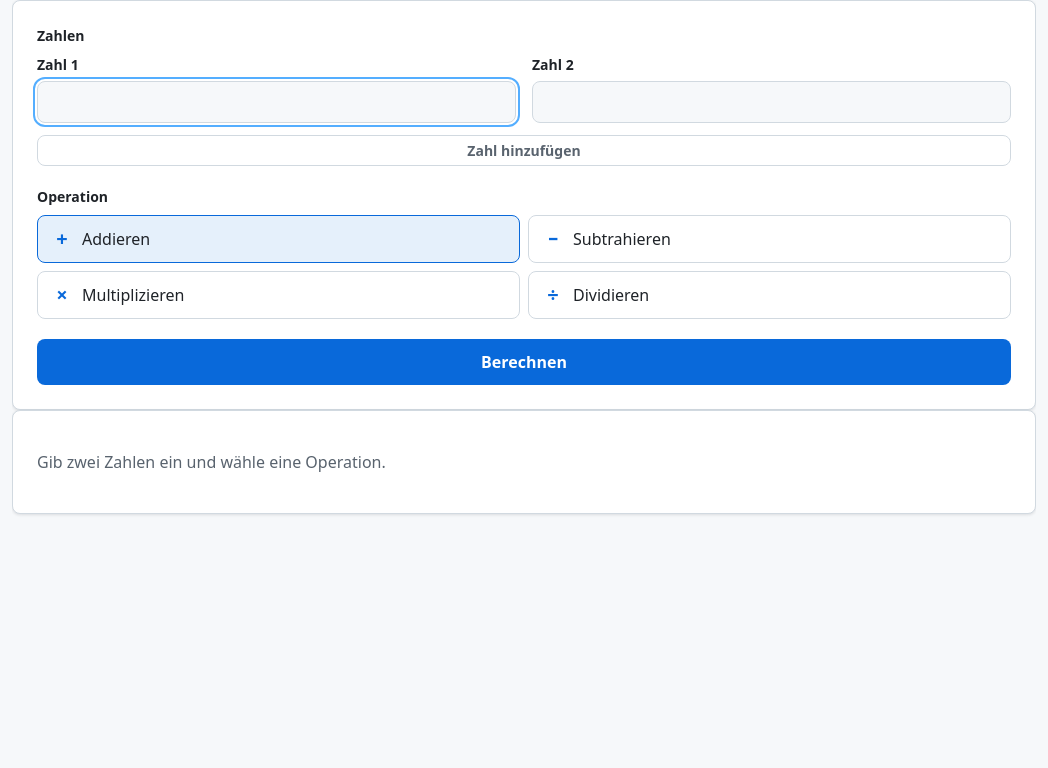
Test: Calculator › accepts a comma as decimal separator
The width and height of the screenshot is (1048, 768).
Type "1,5" into the field labelled "Zahl 1".
click(276, 102); type("1,5")  # box [37,81,516,123]
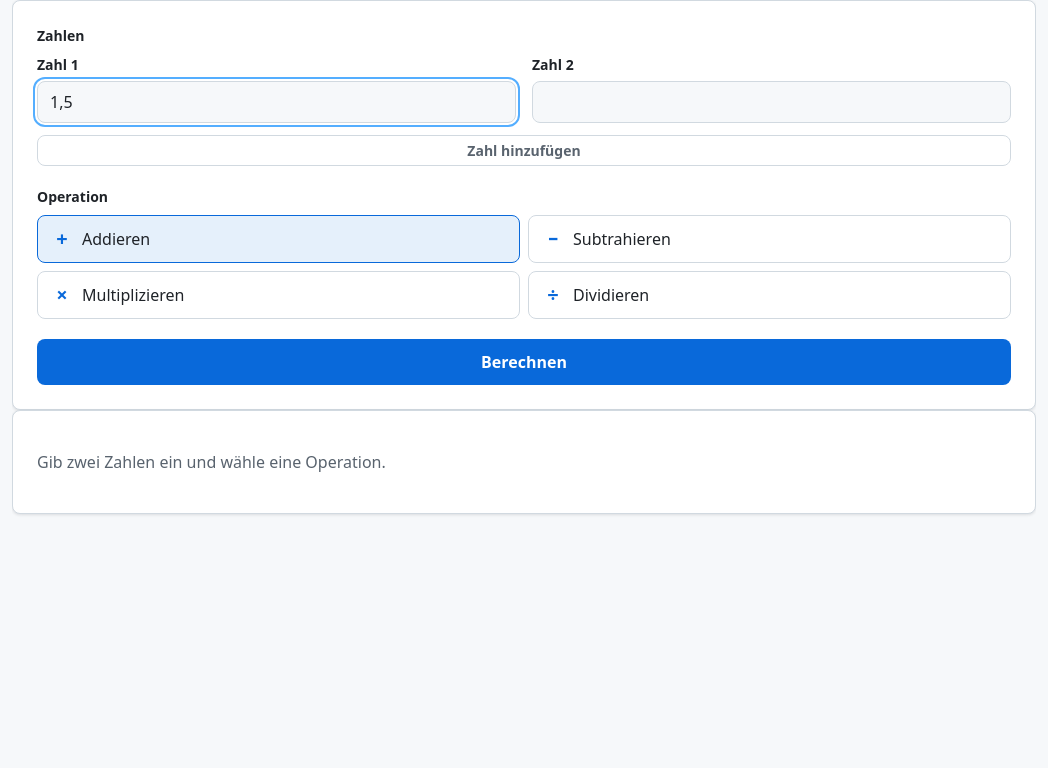
Type "2" into the field labelled "Zahl 2".
click(772, 102); type("2")  # box [532,81,1011,123]
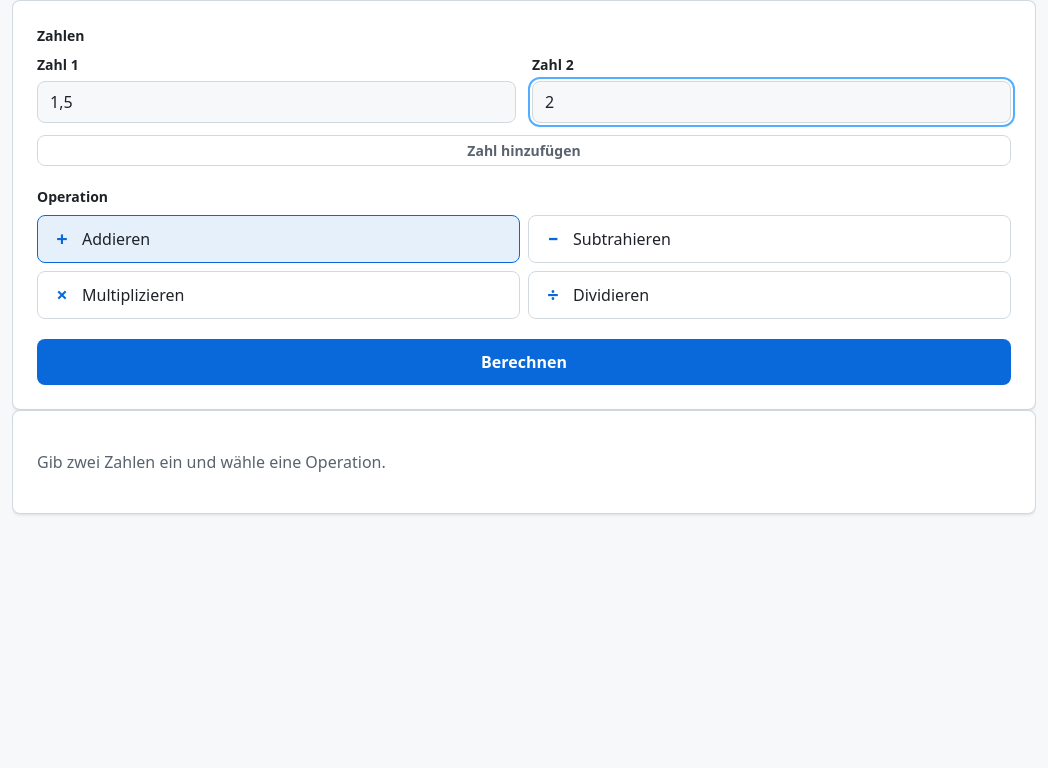
Click the button "Berechnen".
click(524, 362)  # box [37,339,1011,385]
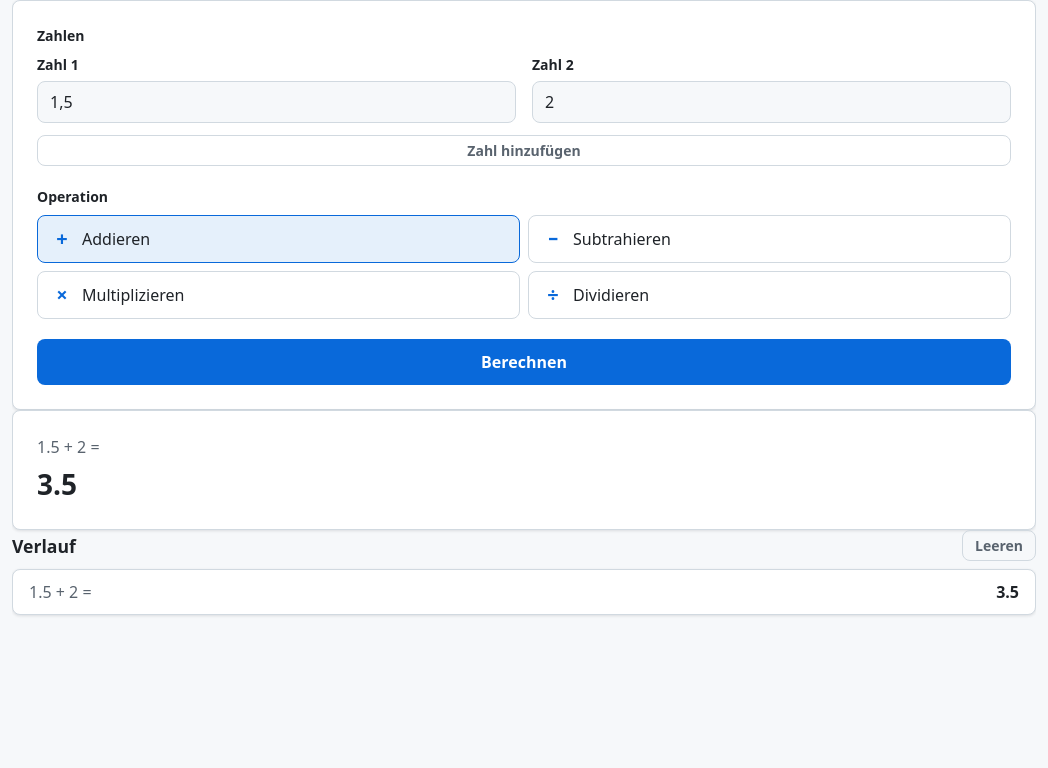
Expected: the text with test id "result-value" reads "3.5", [37,465,77,503]
